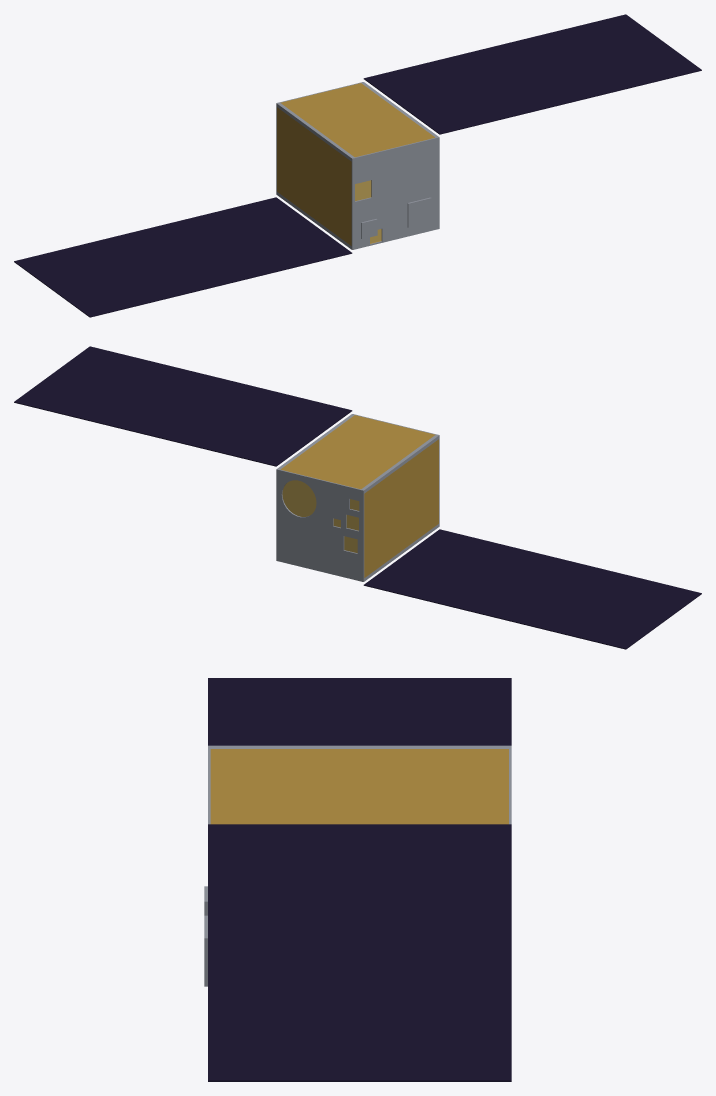
The model's file is wollemi_12u_deployed_textured.obj.
3 views of the same model, one above another, from view 1: azimuth 30°, elevation 25°; view 2: azimuth 150°, elevation 25°; view 3: azimuth 270°, elevation 25° (orthographic). The views are drawn at different scales.
Parts seen in each view (by area): view 1: part_9_Zenith_plate, part_74_Wing_B_panel_3, part_69_Wing_A_panel_1, part_71_Wing_A_panel_3, part_70_Wing_A_panel_2, part_72_Wing_B_panel_1, part_73_Wing_B_panel_2, part_5_Wall__X, part_6_Wall__Y, part_11_S_band_patch_antenna, part_2_Rail__1_1; view 2: part_8_Nadir_plate, part_74_Wing_B_panel_3, part_69_Wing_A_panel_1, part_71_Wing_A_panel_3, part_70_Wing_A_panel_2, part_72_Wing_B_panel_1, part_73_Wing_B_panel_2, part_5_Wall__X, part_6_Wall__Y, part_22_Payload_E__telescope_camera__85_mm_Casse, part_2_Rail__1_1; view 3: part_71_Wing_A_panel_3, part_69_Wing_A_panel_1, part_70_Wing_A_panel_2, part_6_Wall__Y, part_74_Wing_B_panel_3, part_2_Rail__1_1.
Boxes of the visible parts, box(x1,y1,x2,y2) form: part_9_Zenith_plate: box(351, 137, 439, 249); part_74_Wing_B_panel_3: box(14, 240, 177, 317); part_69_Wing_A_panel_1: box(363, 57, 526, 134); part_71_Wing_A_panel_3: box(539, 14, 701, 91); part_70_Wing_A_panel_2: box(451, 35, 614, 113); part_72_Wing_B_panel_1: box(189, 197, 352, 274); part_73_Wing_B_panel_2: box(102, 218, 264, 296); part_5_Wall__X: box(277, 107, 351, 245); part_6_Wall__Y: box(280, 83, 434, 157); part_11_S_band_patch_antenna: box(407, 197, 431, 227); part_2_Rail__1_1: box(276, 102, 355, 161); part_8_Nadir_plate: box(276, 469, 364, 581); part_74_Wing_B_panel_3: box(538, 572, 701, 649); part_69_Wing_A_panel_1: box(189, 389, 352, 466); part_71_Wing_A_panel_3: box(14, 346, 176, 423); part_70_Wing_A_panel_2: box(101, 367, 264, 445); part_72_Wing_B_panel_1: box(363, 529, 526, 606); part_73_Wing_B_panel_2: box(451, 550, 613, 628); part_5_Wall__X: box(364, 439, 438, 577); part_6_Wall__Y: box(281, 415, 435, 489); part_22_Payload_E__telescope_camera__85_mm_Casse: box(282, 480, 316, 516); part_2_Rail__1_1: box(360, 434, 439, 493); part_71_Wing_A_panel_3: box(208, 995, 511, 1081); part_69_Wing_A_panel_1: box(208, 824, 511, 909); part_70_Wing_A_panel_2: box(208, 909, 511, 994); part_6_Wall__Y: box(210, 749, 508, 824); part_74_Wing_B_panel_3: box(208, 678, 511, 745); part_2_Rail__1_1: box(208, 745, 511, 748).
Size of the model in its own units: 1584 by 244 by 344.
